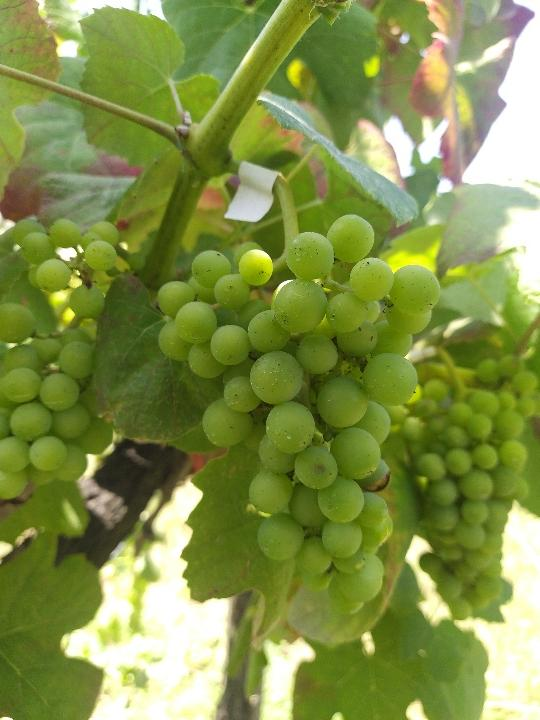grape: (157, 209, 448, 615), (389, 354, 536, 622)
